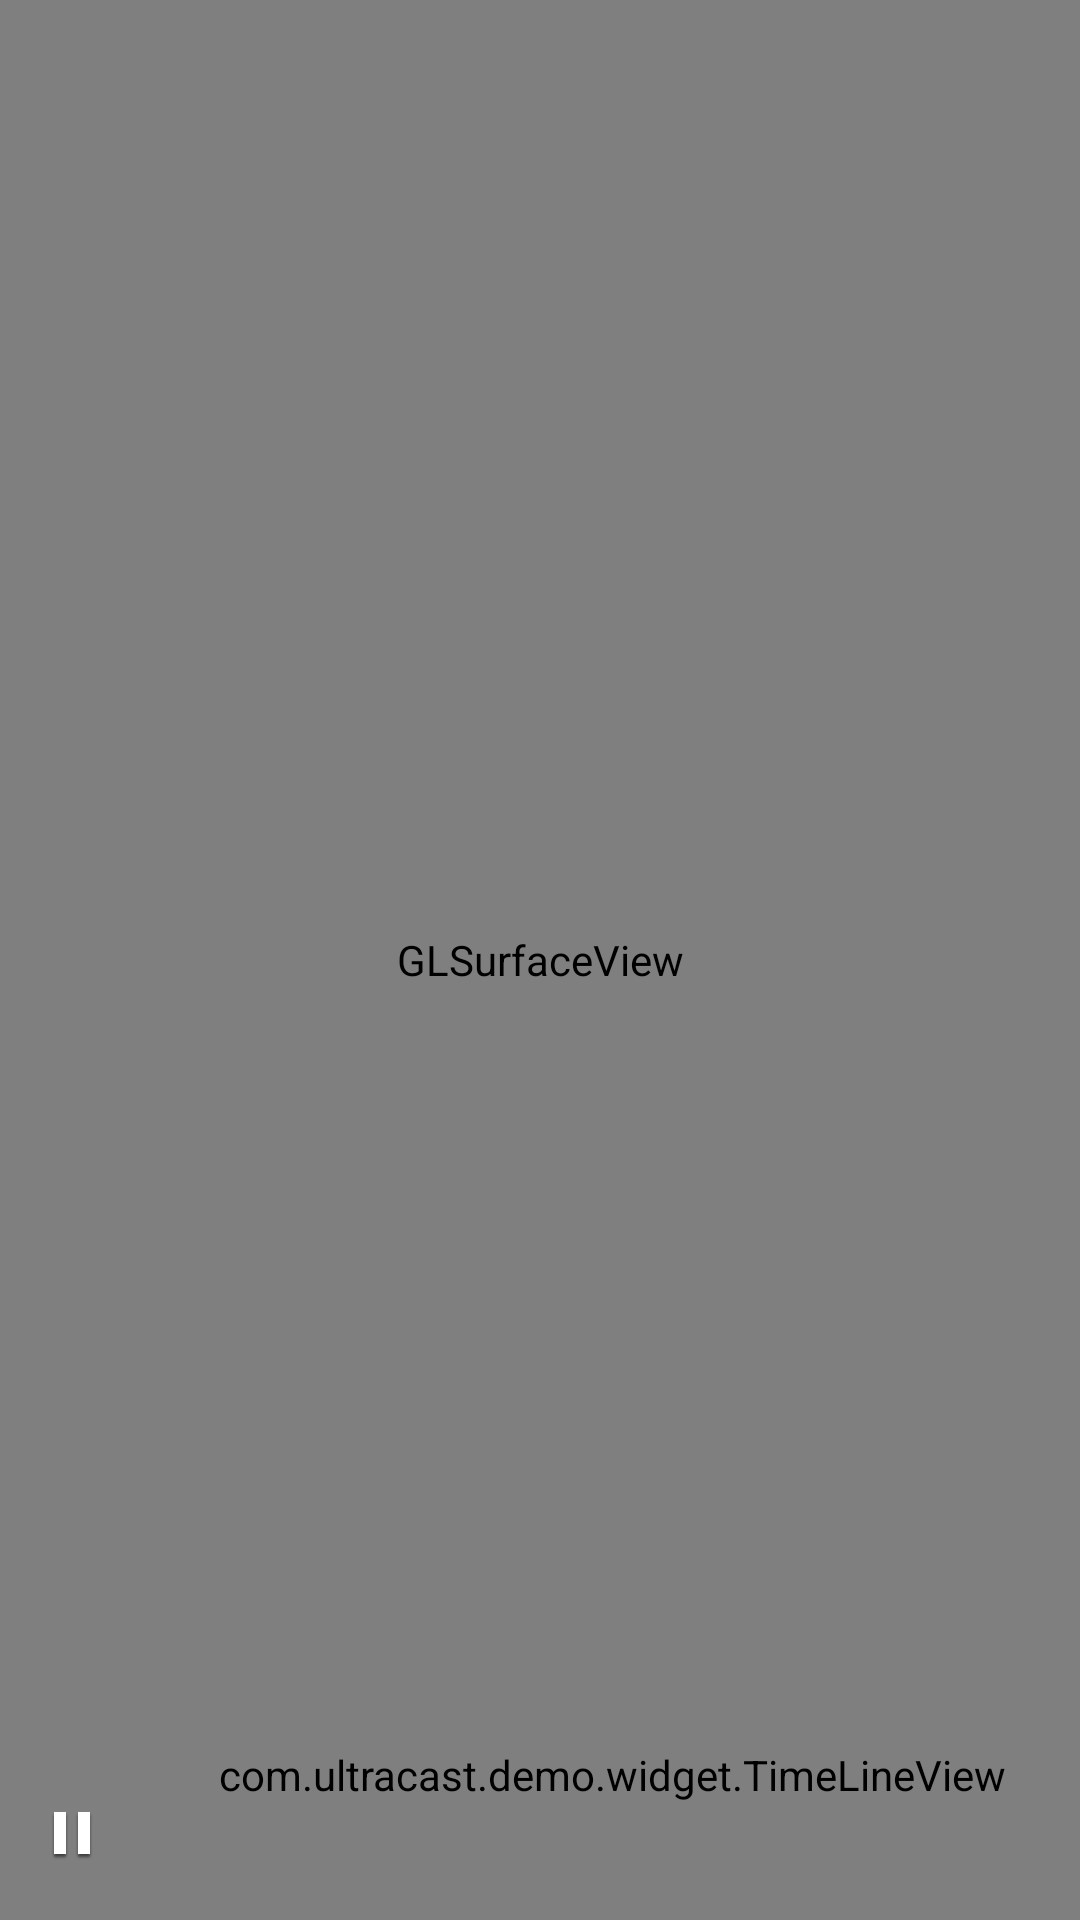

Where to tap for icons on this 1080x1920 app screen, as (x,y):
pause bottom: (72,1834)
